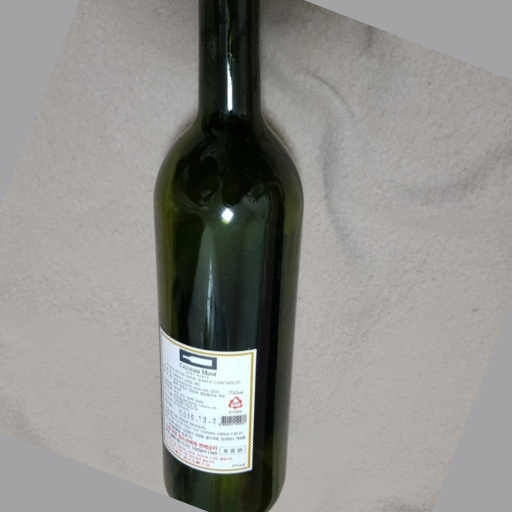Glass_2: (135, 1, 314, 512)
